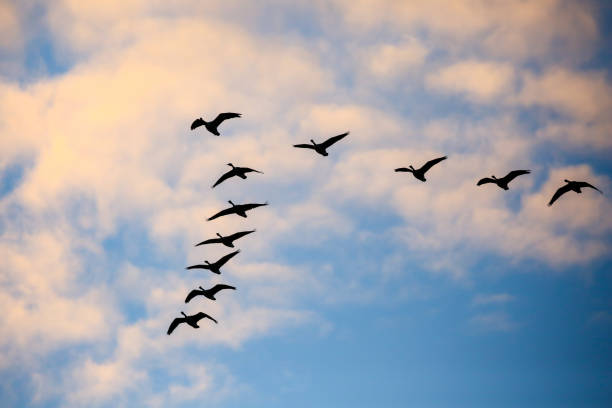goose: (291, 127, 353, 162), (204, 197, 273, 225), (543, 177, 606, 207), (392, 154, 449, 184), (185, 110, 246, 138), (210, 161, 265, 191), (184, 248, 244, 275), (192, 227, 259, 250), (473, 167, 533, 191), (166, 310, 219, 336), (181, 282, 239, 305)
